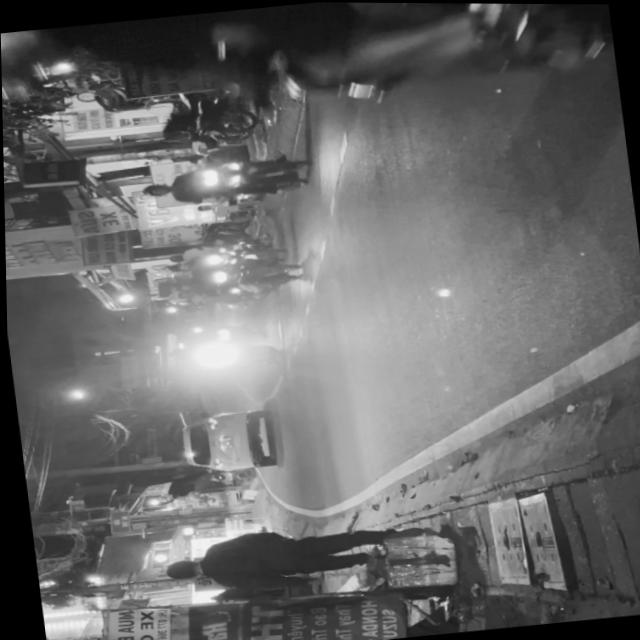helmet: (0, 23, 92, 73)
licenseplate: (0, 0, 619, 149)
